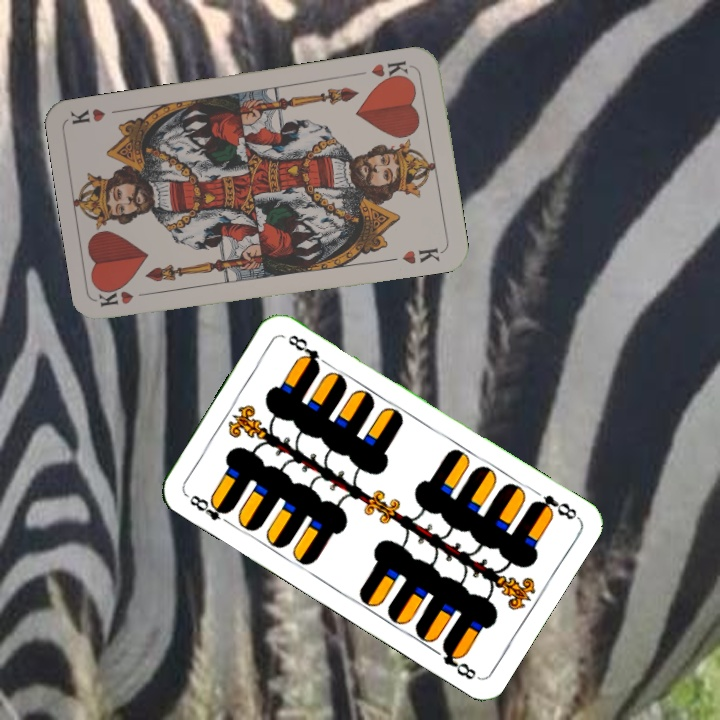E8: (185, 490, 234, 528), (527, 490, 581, 523)
HK: (367, 57, 415, 86), (96, 287, 156, 309)
